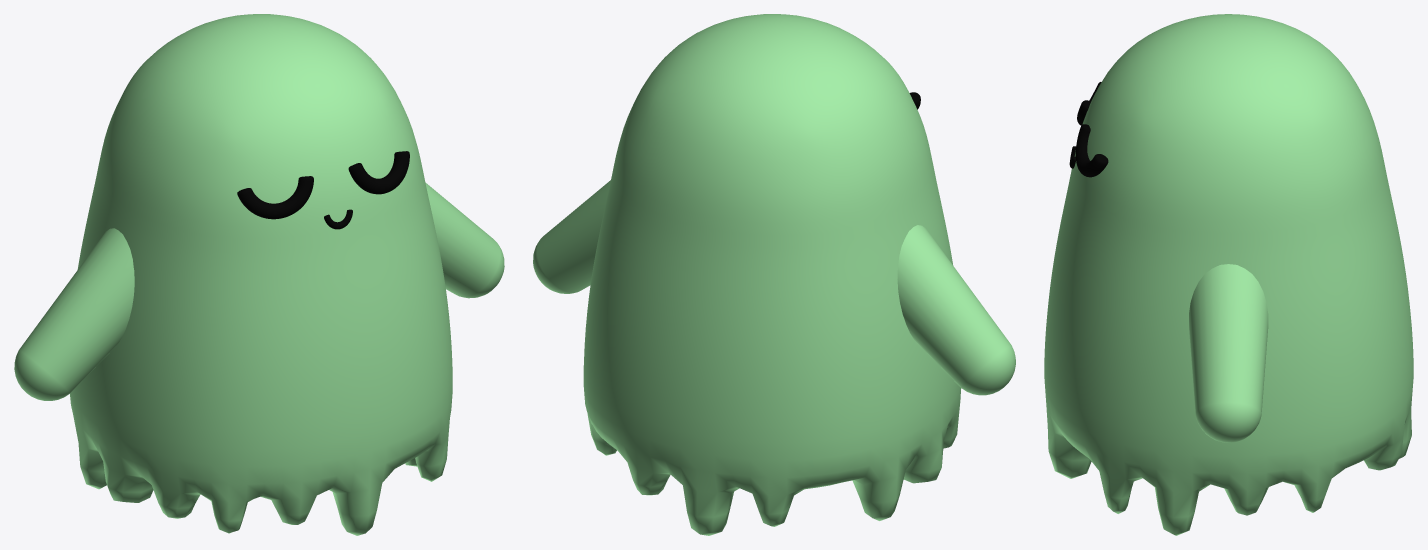
The model's file is ghostCharacter 2.fbx.
The picture shows the model from 3 angles, left to right: view 1: azimuth 30°, elevation 25°; view 2: azimuth 150°, elevation 25°; view 3: azimuth 270°, elevation 25°; orthographic projection. The views are drawn at different scales.
Parts seen in each view (by area): view 1: Cube, Sphere.000, Sphere.001, Torus.002, Torus.001; view 2: Cube, Sphere.000, Sphere.001; view 3: Cube, Sphere.001, Torus.001.
Boxes of the visible parts, <box> form: Cube: <box>70,14,452,535</box>; Sphere.000: <box>14,228,134,400</box>; Sphere.001: <box>425,182,504,298</box>; Torus.002: <box>237,176,313,219</box>; Torus.001: <box>348,151,409,194</box>; Cube: <box>583,14,961,535</box>; Sphere.000: <box>897,225,1015,395</box>; Sphere.001: <box>533,180,610,293</box>; Cube: <box>1044,14,1413,535</box>; Sphere.001: <box>1189,264,1268,442</box>; Torus.001: <box>1075,124,1108,177</box>.
Bounding box in the file's own units: 234 × 209 × 159.
